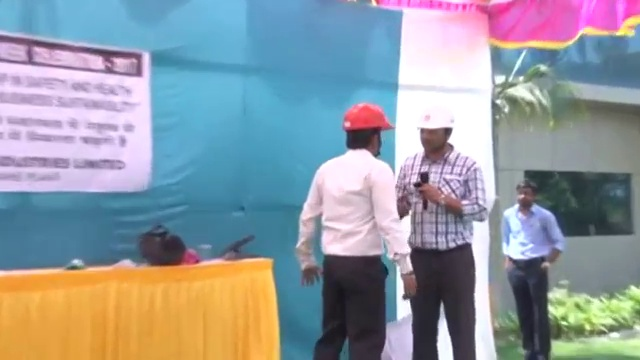helmet: (341, 101, 398, 134), (415, 105, 456, 130)
helmet_off: (514, 178, 535, 209)
helmet_on: (340, 102, 399, 158), (412, 104, 457, 161)
person: (297, 102, 415, 360), (397, 104, 486, 360), (501, 180, 564, 360)
